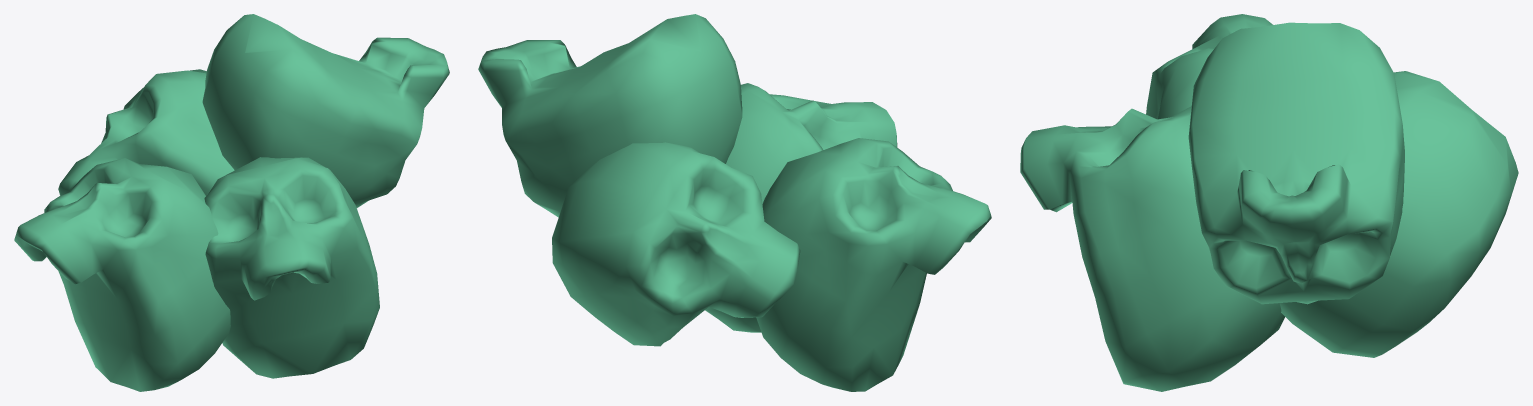
Rendered from Jar_Bones_01_Lod1.fbx.
3 renders of one model, left to right at view 1: azimuth 30°, elevation 25°; view 2: azimuth 150°, elevation 25°; view 3: azimuth 270°, elevation 25°, orthographic. The views are drawn at different scales.
Parts seen in each view (by area): view 1: Jar_Bones_01_Lod1; view 2: Jar_Bones_01_Lod1; view 3: Jar_Bones_01_Lod1.
Part boxes in pixels (x1=…): Jar_Bones_01_Lod1: x1=14, y1=14, x2=449, y2=391; Jar_Bones_01_Lod1: x1=478, y1=14, x2=991, y2=391; Jar_Bones_01_Lod1: x1=1020, y1=14, x2=1518, y2=391.
Bounding box in the file's own units: 39.88 × 26.2 × 31.31.
